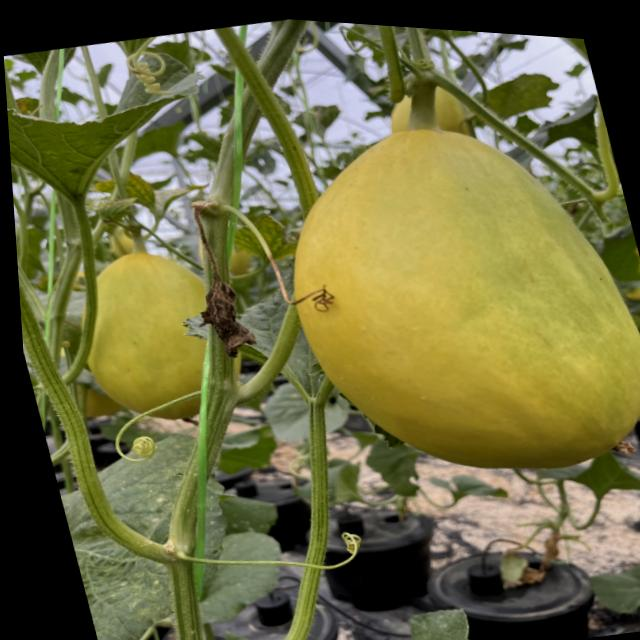bacterial wilt: (186, 275, 262, 363)
downy mildew: (4, 57, 223, 232)
